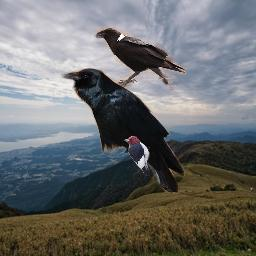Crow: (61, 68, 185, 194), (94, 26, 186, 90)
Woodpecker: (123, 136, 150, 176)
